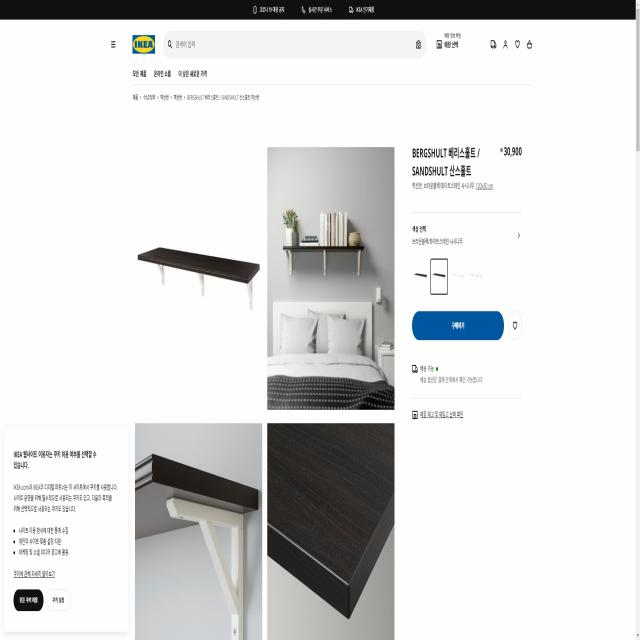search: (163, 29, 428, 60)
side-panel: (405, 140, 529, 446)
